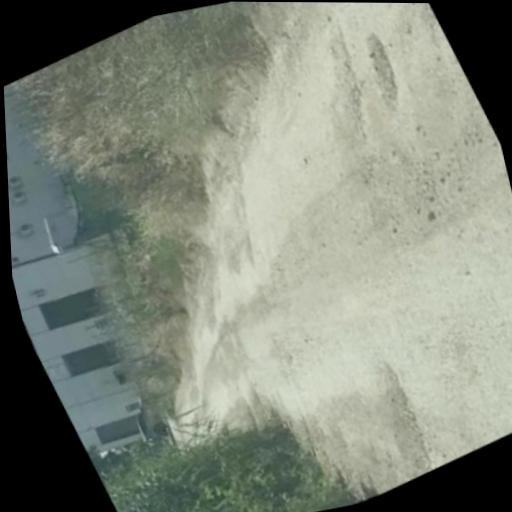pothole: (191, 15, 512, 52)
